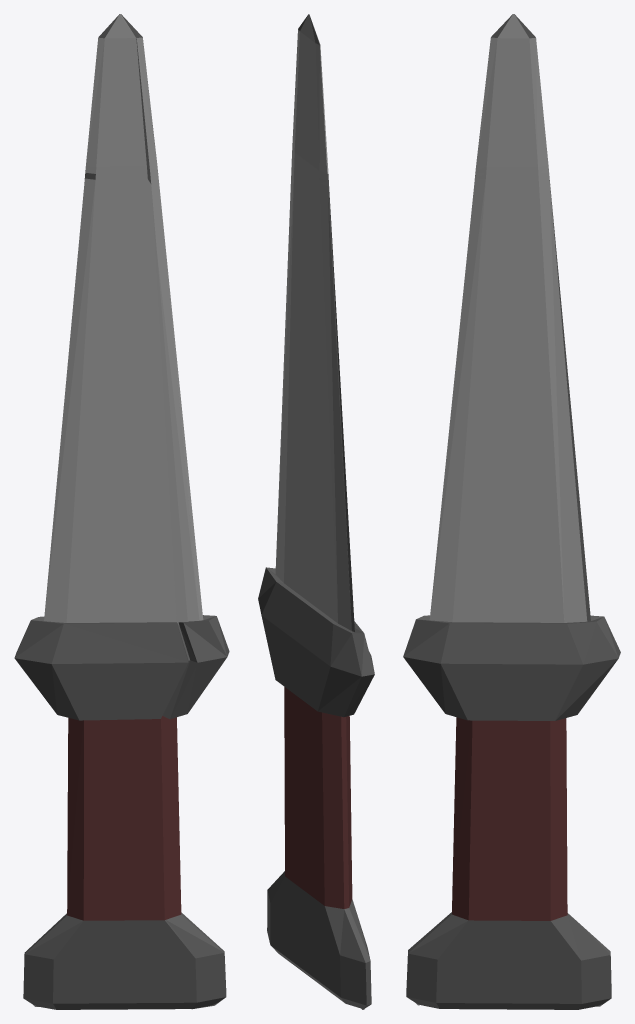
File: dagger.fbx
The picture shows the model from 3 angles, left to right: view 1: azimuth 90°, elevation 25°; view 2: azimuth 210°, elevation 25°; view 3: azimuth 270°, elevation 25°; orthographic projection. The views are drawn at different scales.
Parts seen in each view (by area): view 1: pCube4; view 2: pCube4; view 3: pCube4.
Boxes of the visible parts, bbox=[...] form: pCube4: bbox=[14, 14, 229, 1009]; pCube4: bbox=[258, 14, 374, 1009]; pCube4: bbox=[403, 14, 620, 1009].
Bounding box in the file's own units: 0.0585 × 1.3 × 0.2579.
